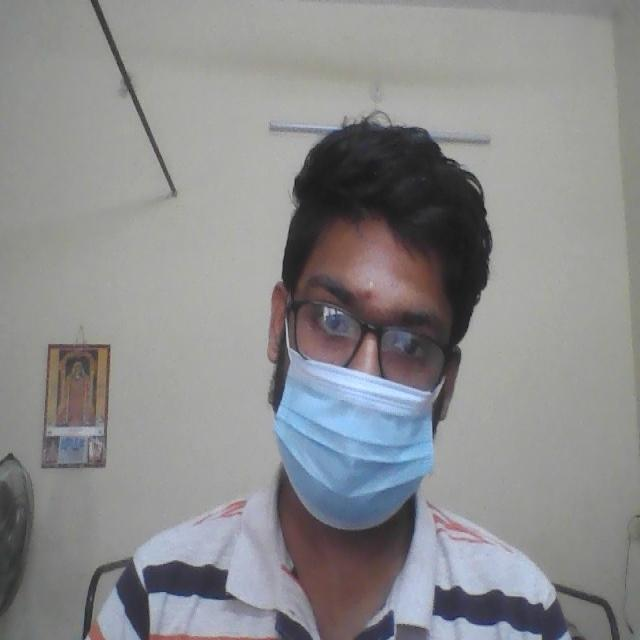Focused: (273, 234, 457, 510)
